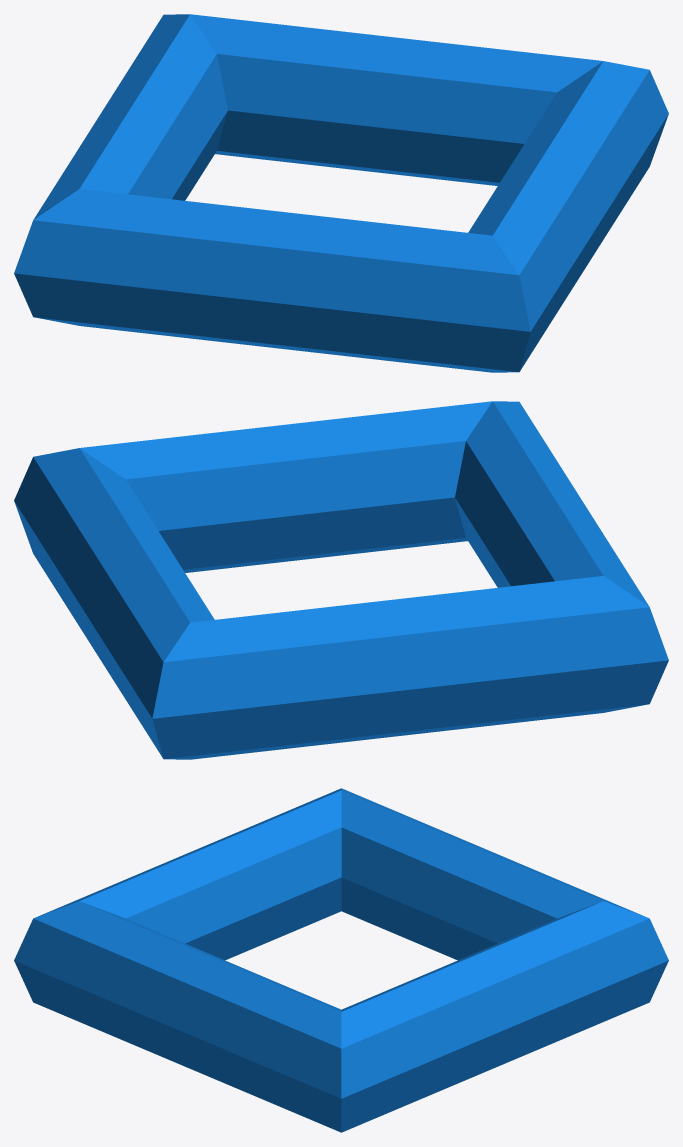
File: TorusFlat.fbx
The picture shows the model from 3 angles, top to bottom: view 1: azimuth 30°, elevation 25°; view 2: azimuth 150°, elevation 25°; view 3: azimuth 270°, elevation 25°; orthographic projection. The views are drawn at different scales.
Parts seen in each view (by area): view 1: TorusFlat; view 2: TorusFlat; view 3: TorusFlat.
Boxes of the visible parts, <box> form: TorusFlat: <box>14,14,668,372</box>; TorusFlat: <box>14,401,668,759</box>; TorusFlat: <box>14,788,668,1132</box>.
Size of the model in its own units: 250 by 50 by 250.
